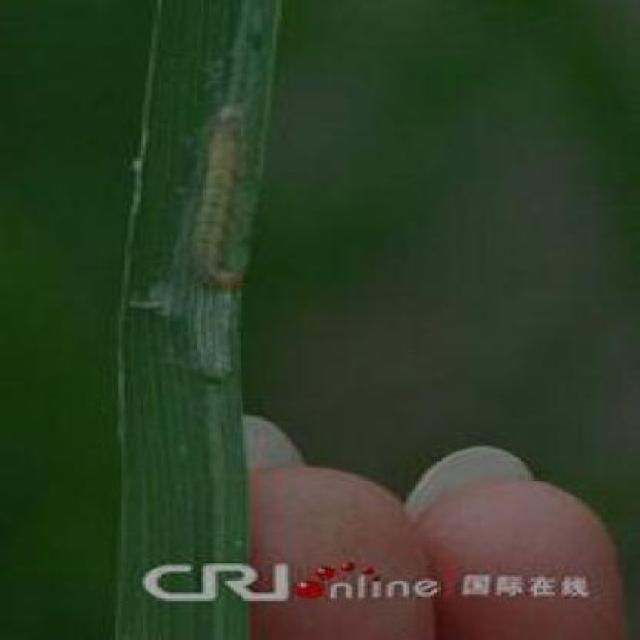leaf-folder: (176, 96, 335, 309)
